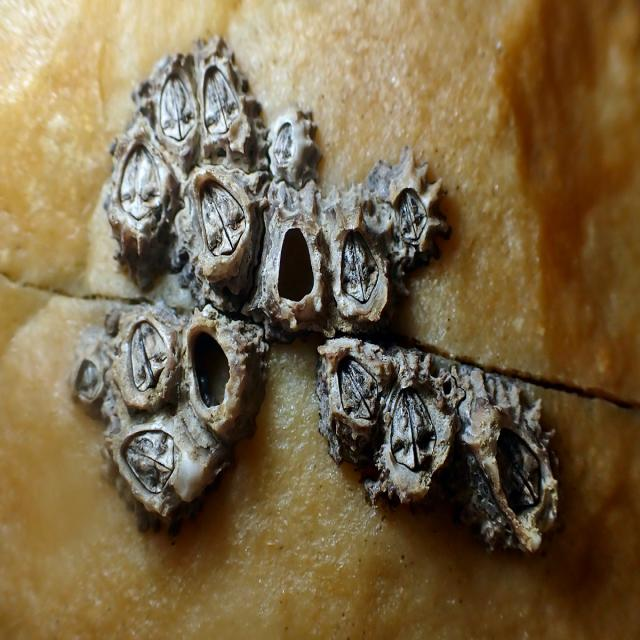barnacles: (458, 367, 563, 565), (372, 354, 460, 526), (105, 412, 225, 538), (182, 308, 269, 448), (183, 167, 264, 309), (191, 34, 270, 176), (107, 136, 180, 288), (323, 202, 391, 334), (108, 298, 183, 412), (263, 193, 324, 333), (318, 336, 386, 459), (384, 160, 450, 274), (143, 46, 199, 164), (62, 320, 111, 415), (267, 105, 320, 185)
